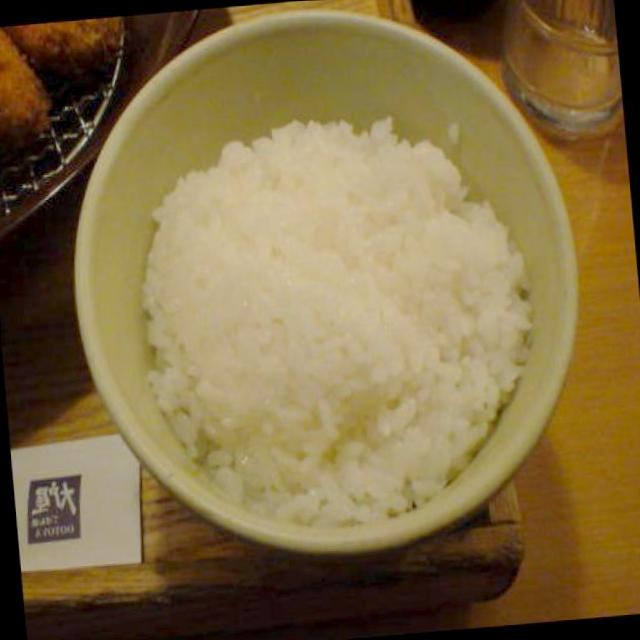Rice: (136, 108, 522, 504)
